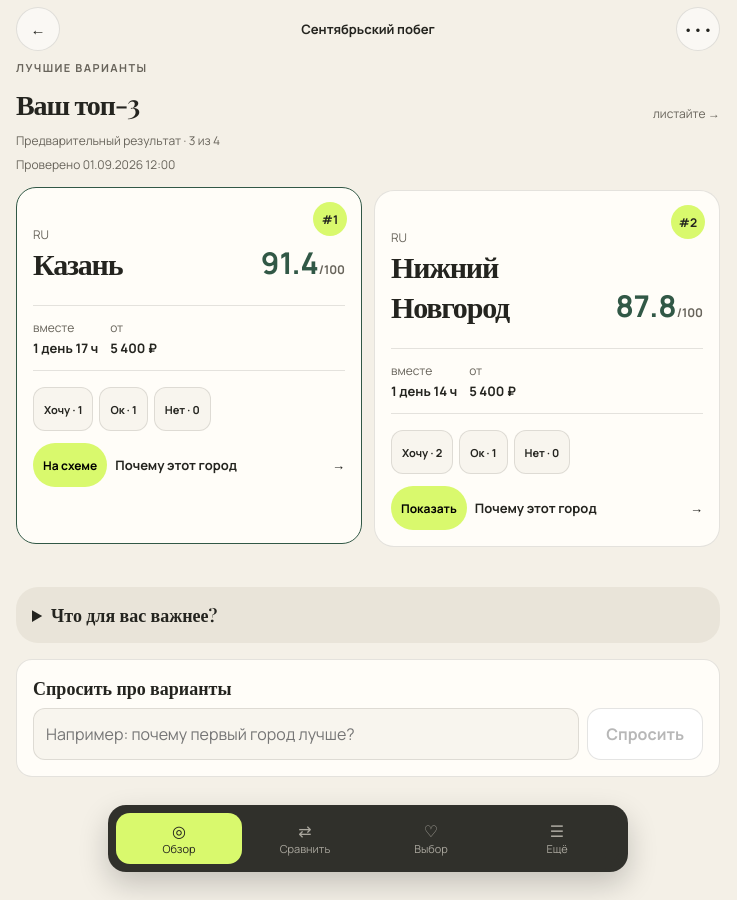
Test: core trip pages › changes fixture ranking from a preset without a global loading screen
(page scrolled)
Check: the heading "Ваш топ-3" is shown, box x1=16 y1=85 x2=148 y2=122
Click the heading "Что для вас важнее?" at x=134, y=615, box x1=51 y1=603 x2=217 y2=627
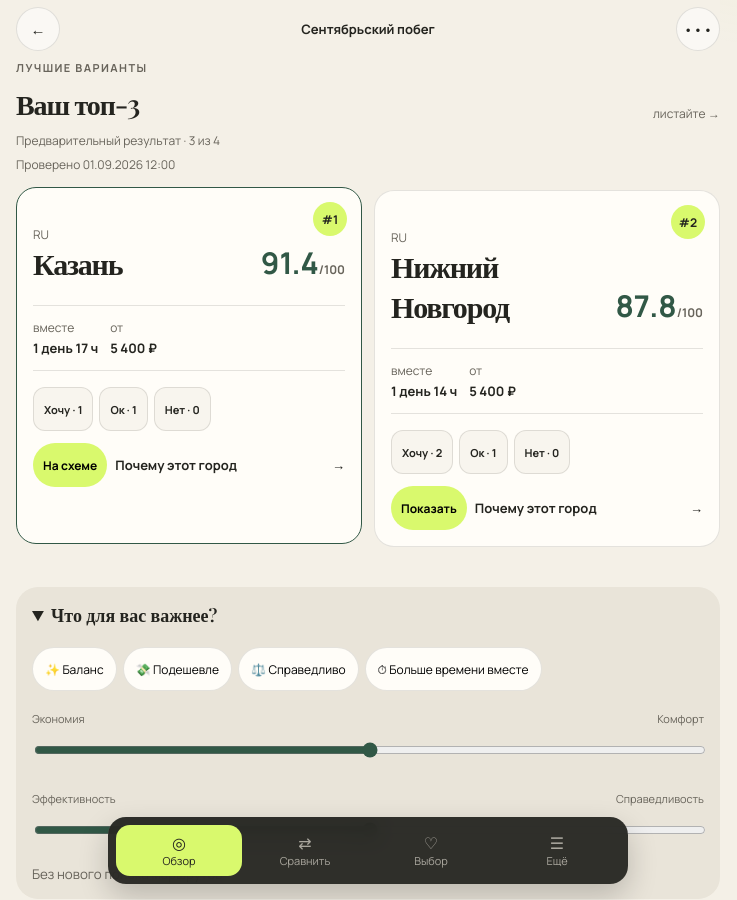
Click the button "💸 Подешевле" at x=177, y=669, box x1=123 y1=647 x2=232 y2=691
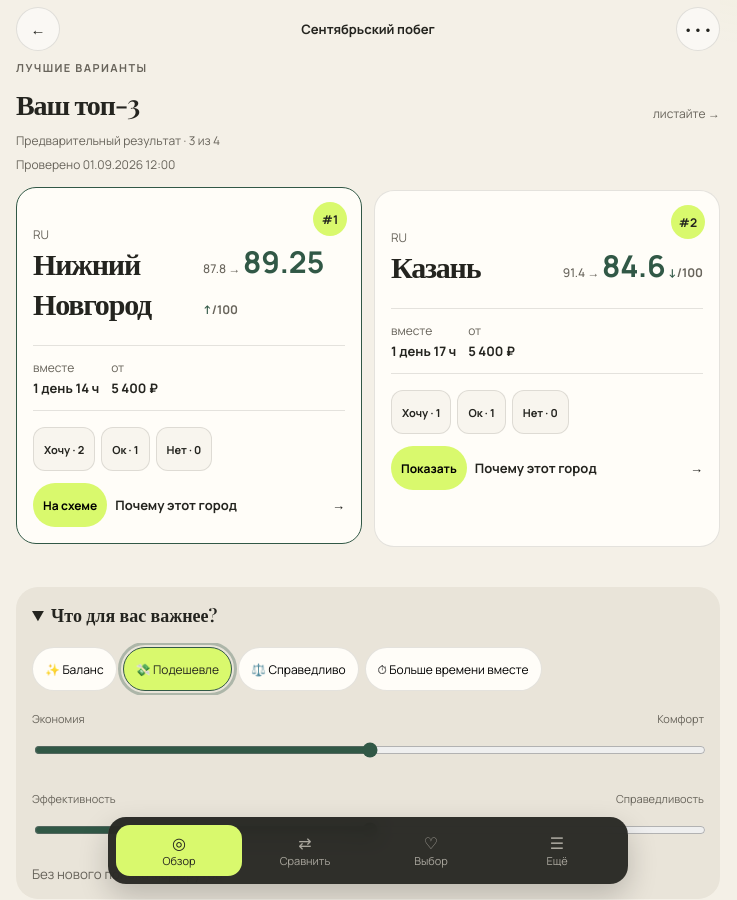
Check: the heading "Нижний Новгород" is shown, box x1=33 y1=243 x2=151 y2=323
Check: the element showing "87.8 → 89.25 ↑/100" is shown, box x1=203 y1=241 x2=345 y2=323
